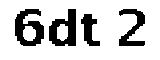2: (112, 5, 150, 50)
6: (11, 5, 45, 51)
d: (47, 6, 78, 52)
t: (81, 10, 105, 49)
